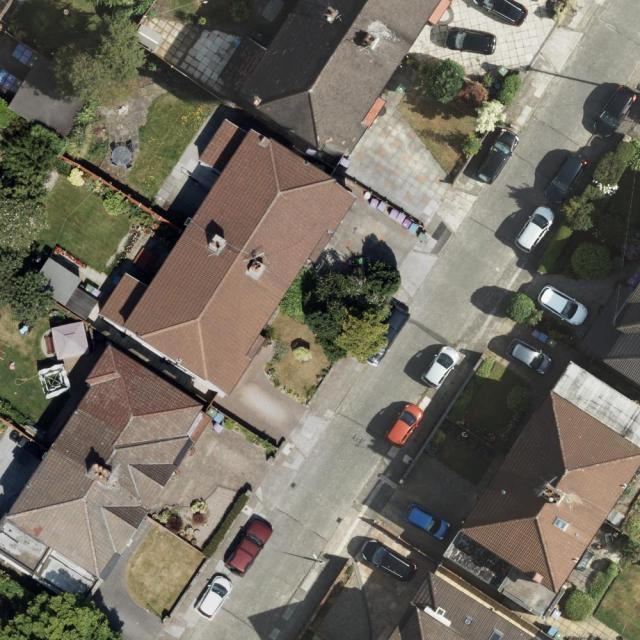roof: (99, 116, 359, 397), (0, 345, 216, 613), (440, 360, 640, 619), (233, 0, 454, 168), (385, 570, 548, 640), (598, 278, 640, 385)
skylight: (552, 515, 570, 535), (487, 629, 504, 640)
